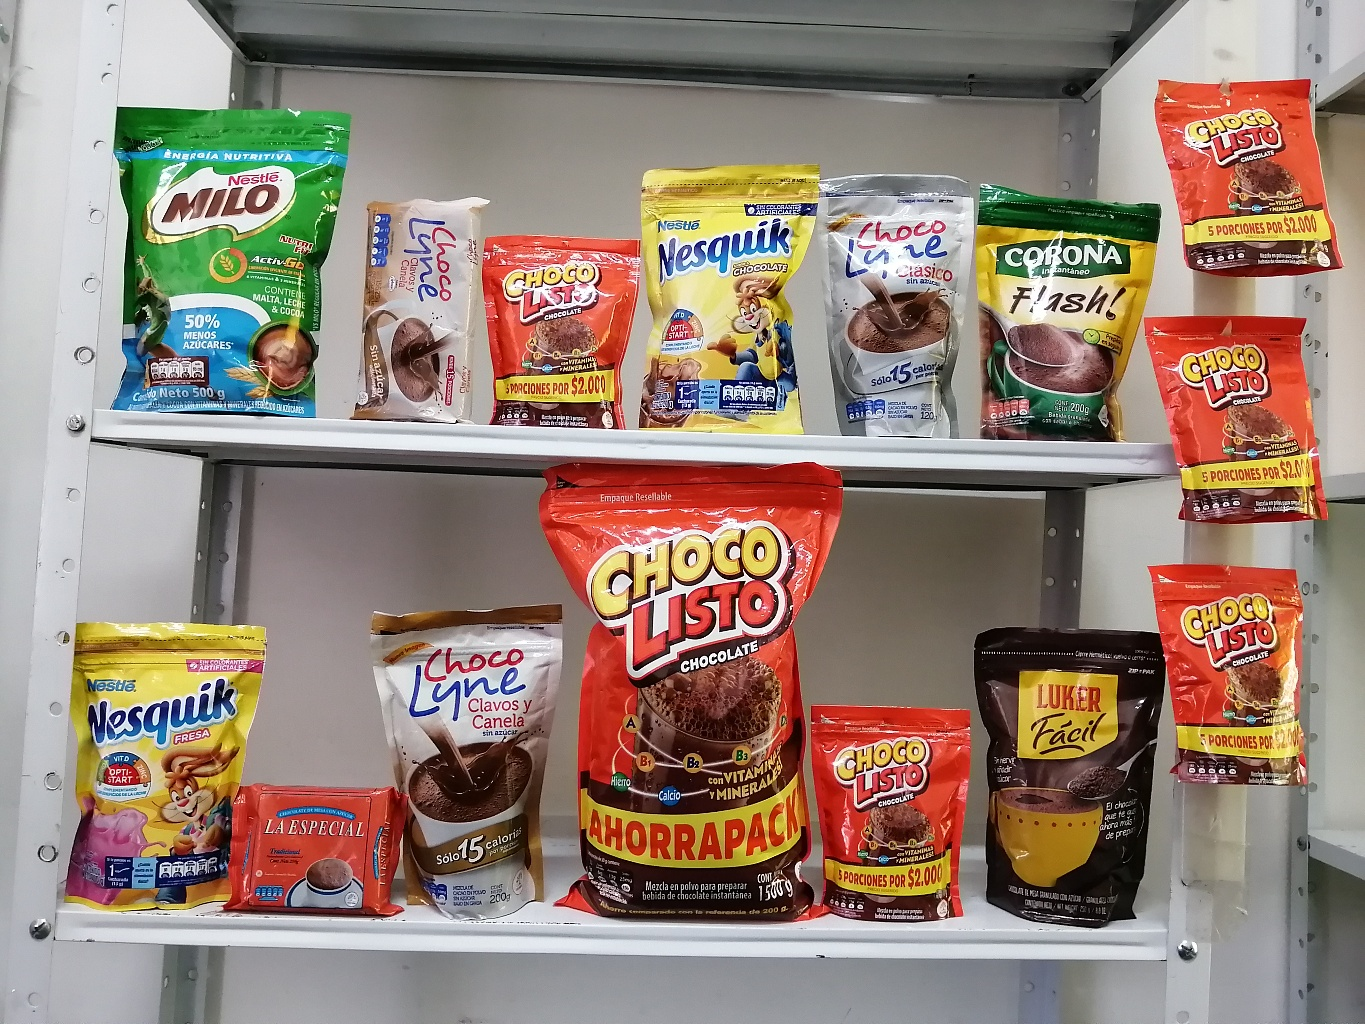COL0170103DYP1,500: (534, 456, 847, 926)
COL0170205DYP50000: (109, 99, 349, 424)
COL0170303DYP20000: (632, 159, 829, 446)
